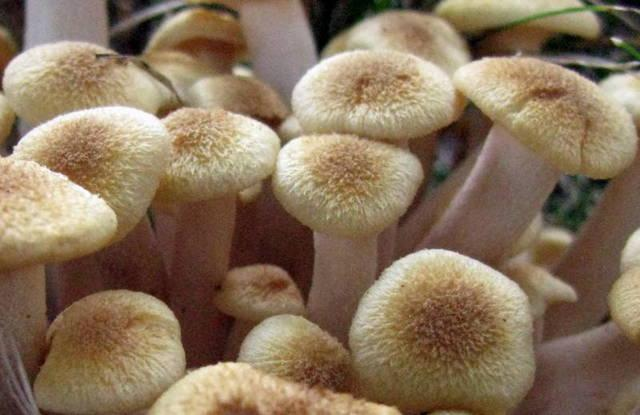Edible Mushroom: (1, 3, 636, 412)
